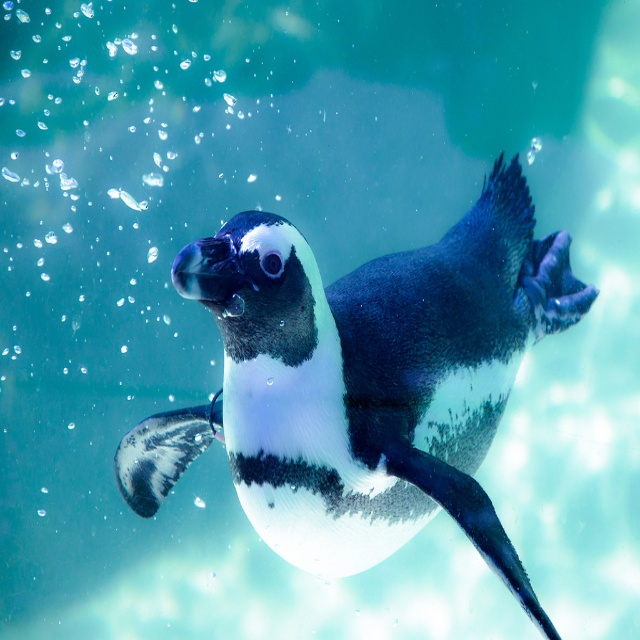Penguin: (115, 149, 602, 639)
